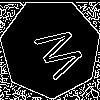W: (25, 23, 87, 86)
